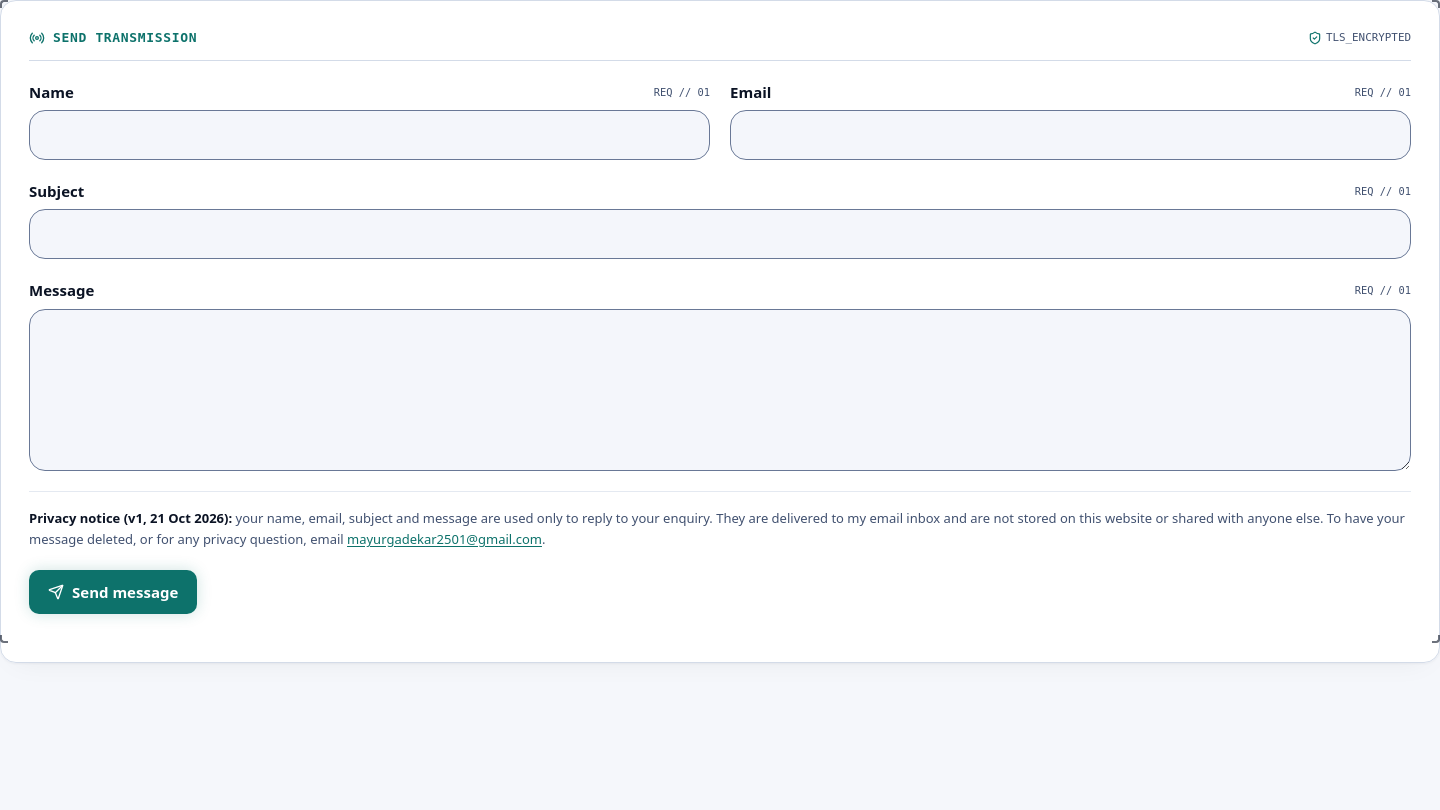
Test: contact form › confirms success and clears the form
This screenshot has width=1440, height=810.
In the field labelled "Name": (370, 135) [29, 110, 710, 160], type "Asha"
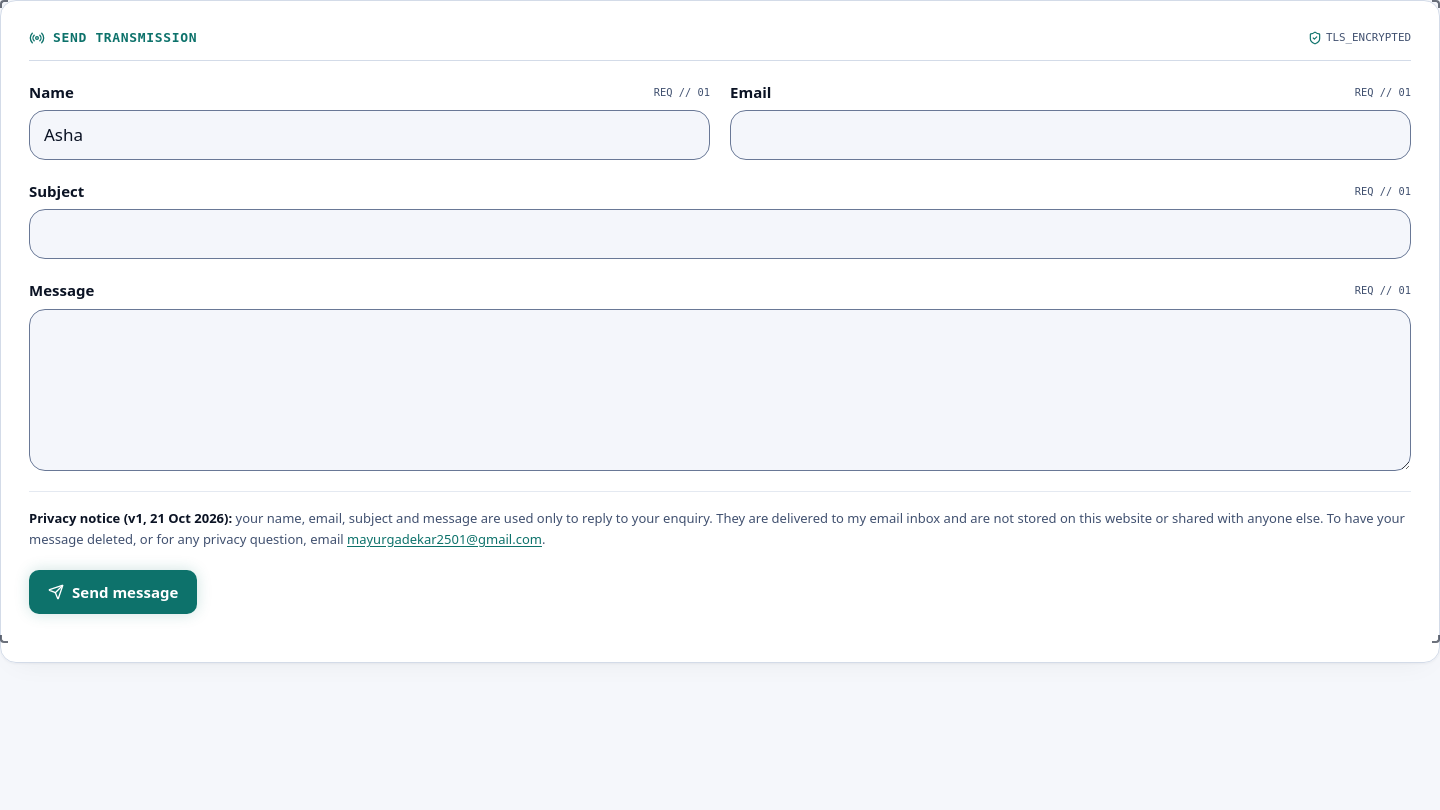
In the field labelled "Email": (1070, 135) [730, 110, 1411, 160], type "asha@example.com"
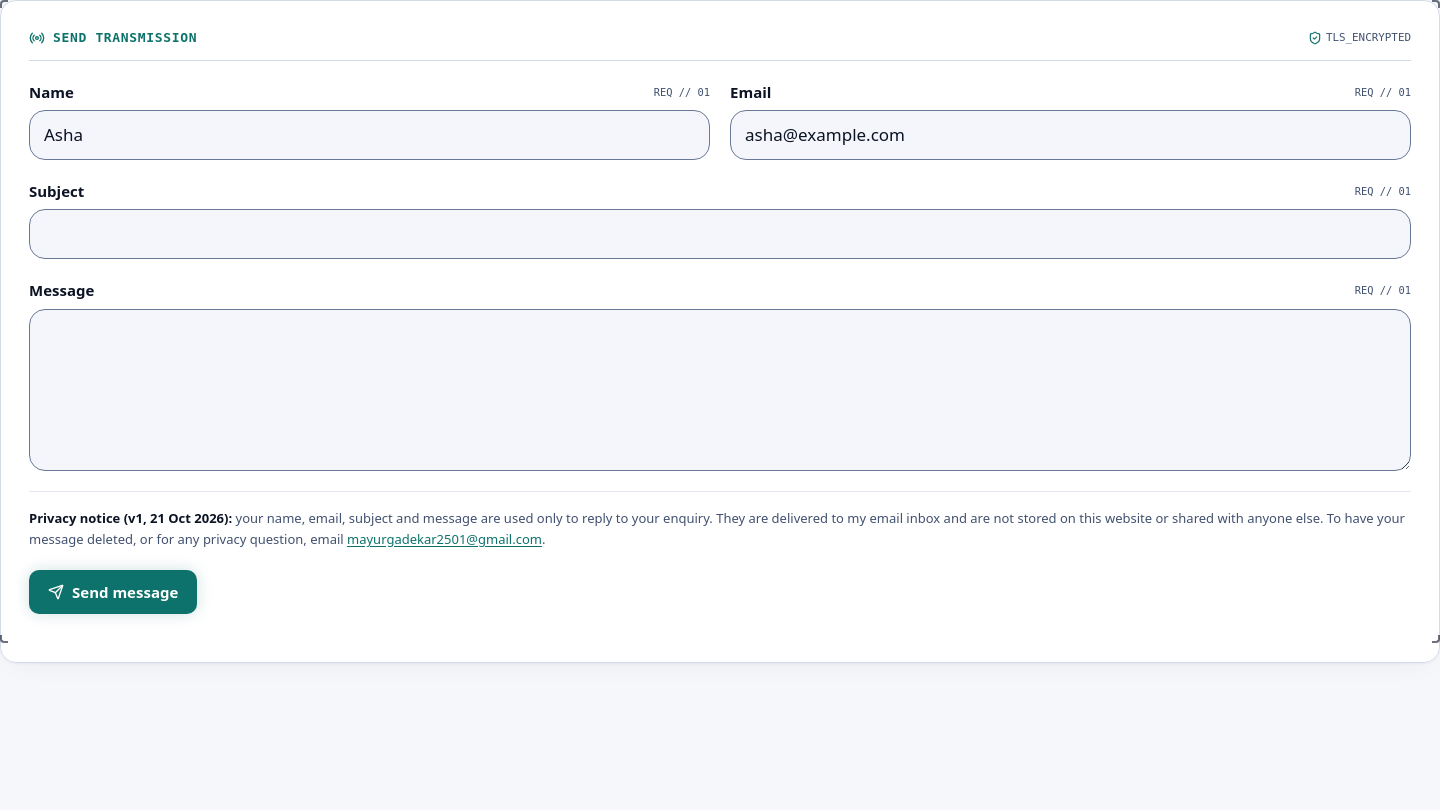
In the field labelled "Subject": (720, 234) [29, 209, 1411, 259], type "Hello"
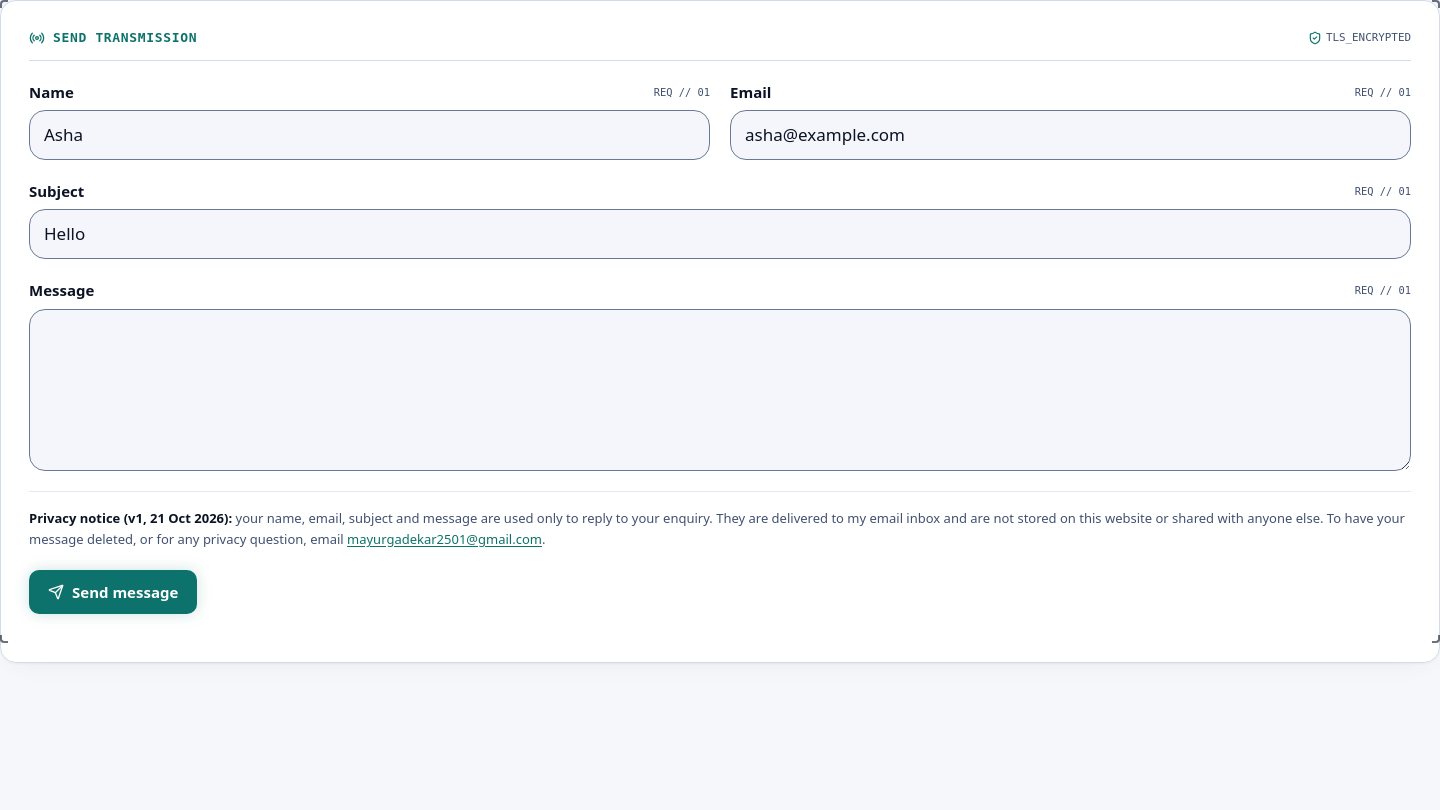
In the text box labelled "Message": (720, 390) [29, 309, 1411, 471], type "Hi there"
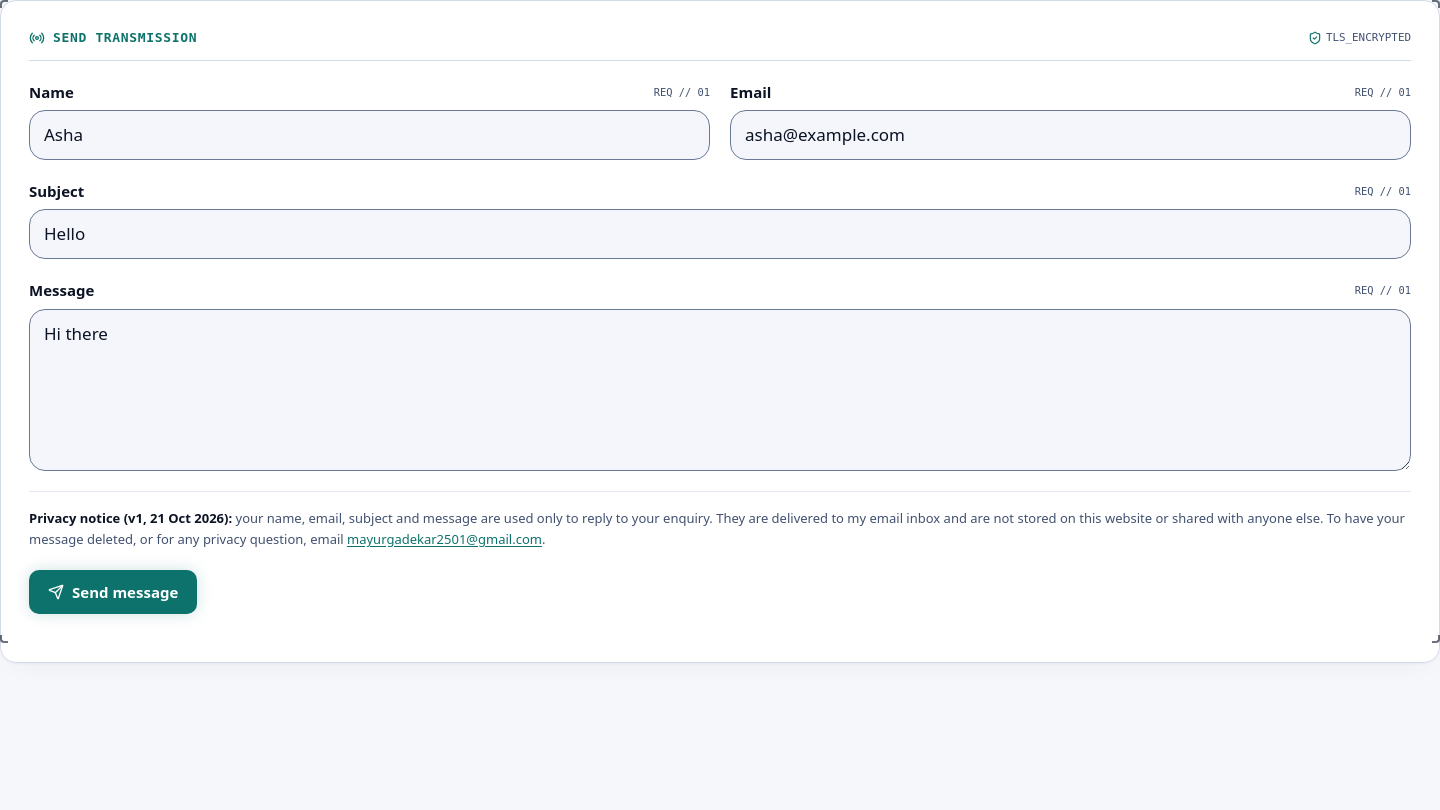
Click the button "Send message": (113, 592) [29, 570, 197, 614]
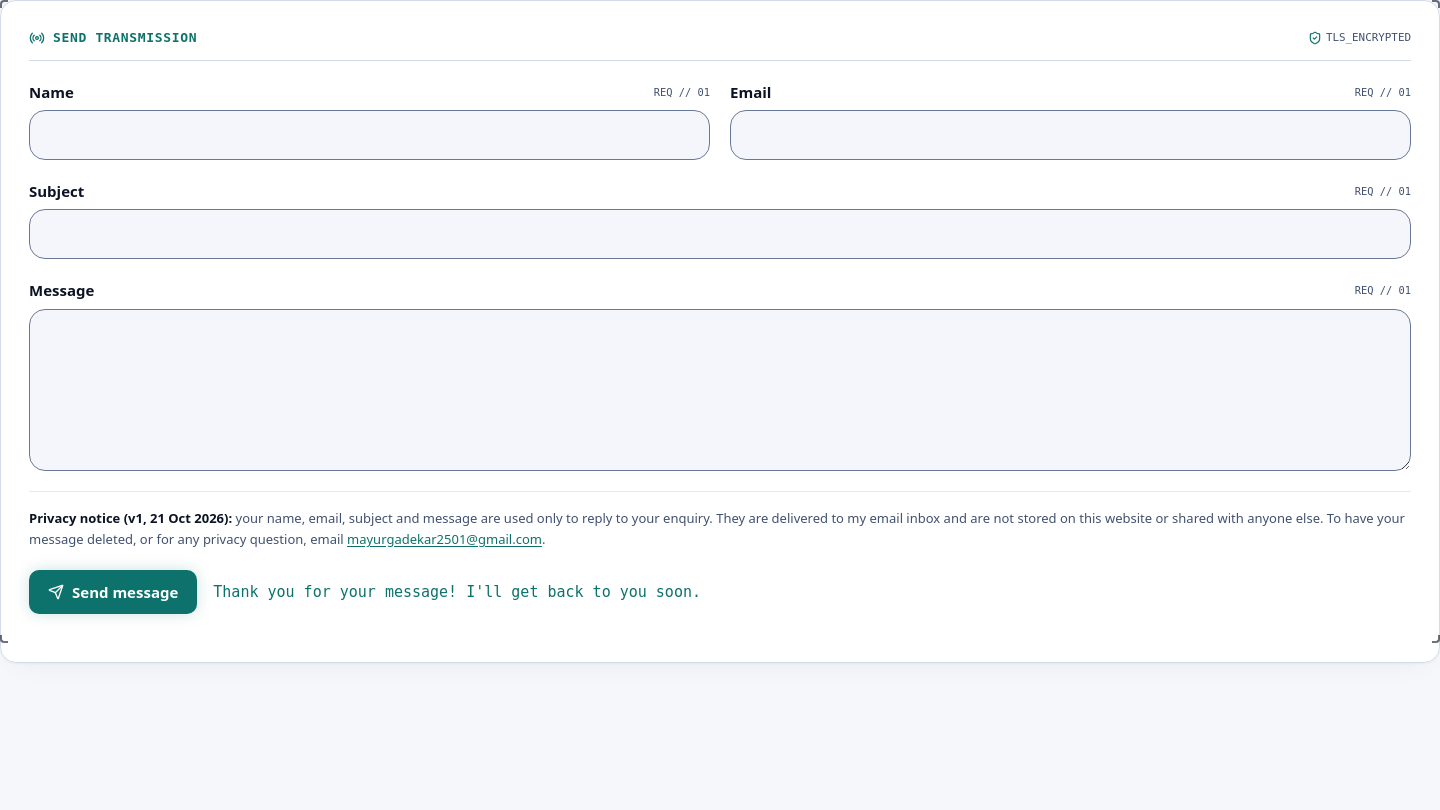
expect the text "Thank you for your message! I'll get back to you soon." is shown: met, box [213, 580, 701, 604]
expect the field labelled "Name" is empty: met, box [29, 110, 710, 160]
